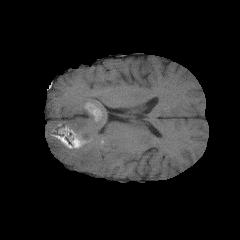glioma: (48, 94, 131, 173)
